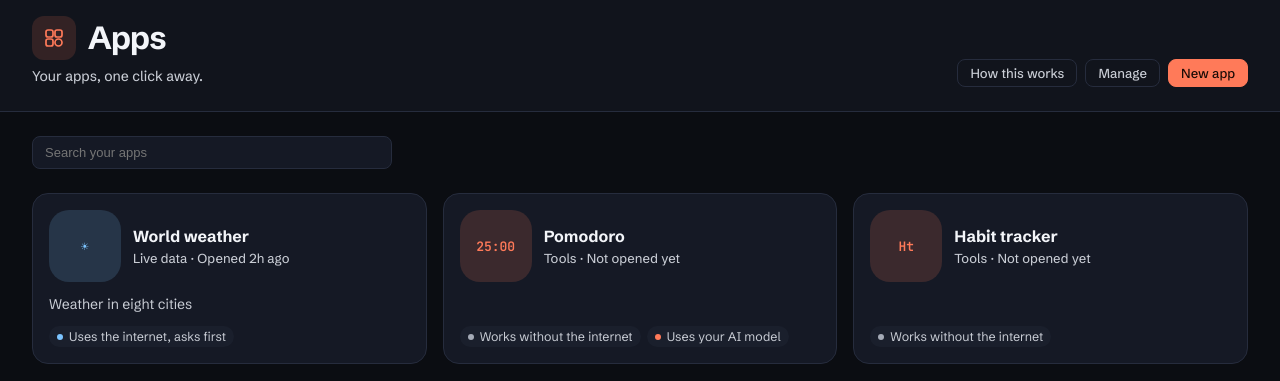
Test: AppsHomePage › says so when nothing matches
Type "chess" into the search field at (212, 152), box [32,136,392,169]
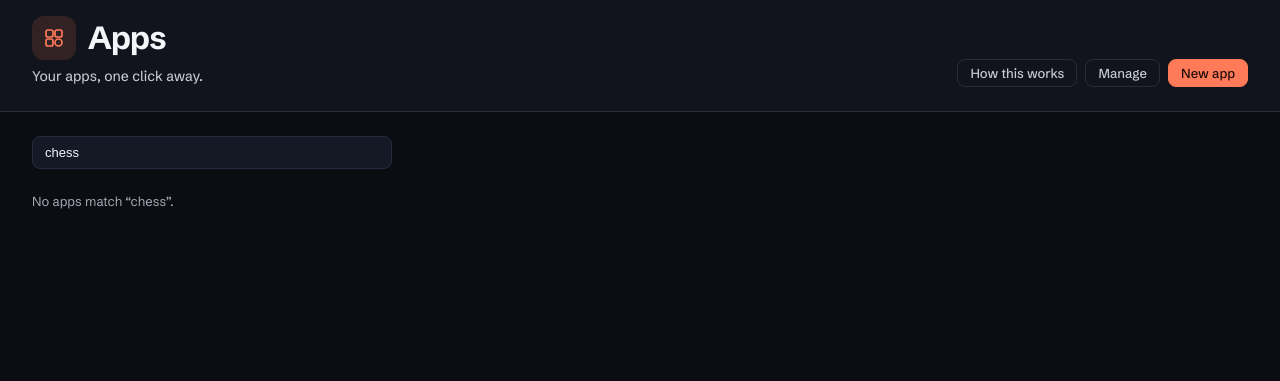
Now the text "No apps match “chess”." is shown, box [32,193,174,209]
